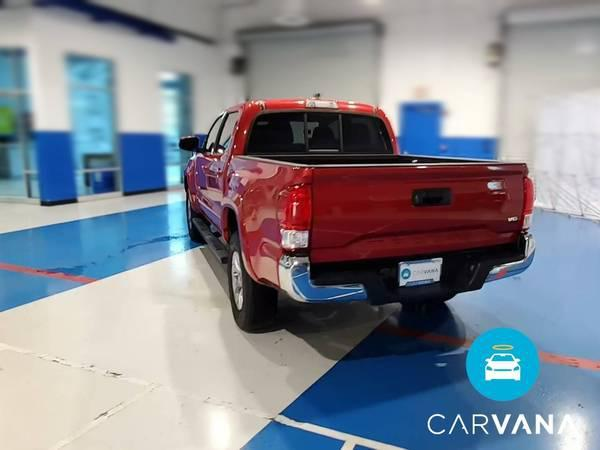Left_Taillight: (276, 181, 313, 255)
Rear_Bumper: (278, 233, 533, 306)
Rear_Fender: (217, 154, 311, 284)
Rear_Windshield: (234, 101, 401, 155)
Right_Taillight: (522, 176, 537, 232)
Tailgate: (311, 165, 530, 267)
Wheel: (224, 235, 276, 331)
